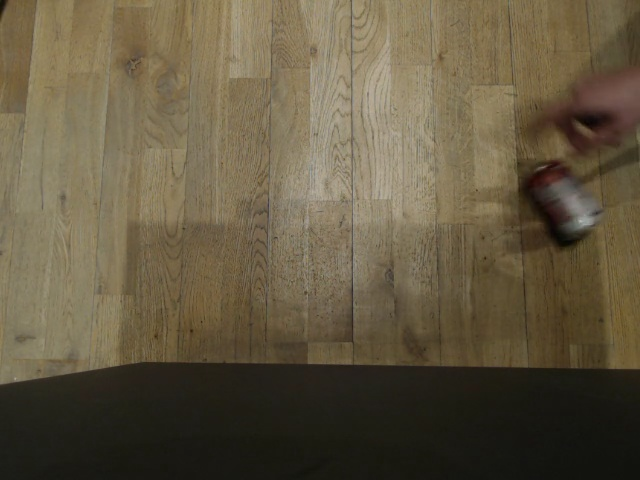coke: (528, 163, 602, 243)
